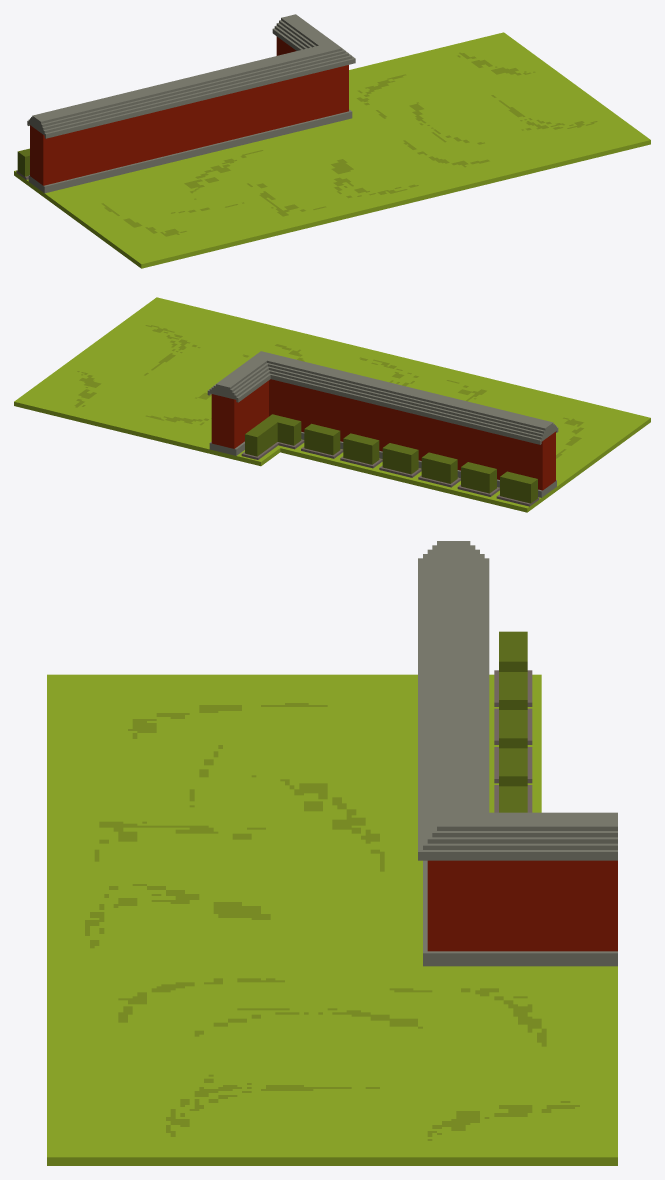
The model's file is Map-6.obj.
3 renders of one model, top to bottom at view 1: azimuth 30°, elevation 25°; view 2: azimuth 150°, elevation 25°; view 3: azimuth 270°, elevation 25°, orthographic. The views are drawn at different scales.
Size of the model in its own units: 24 by 3.3 by 12.
1 material, 1 textured.
